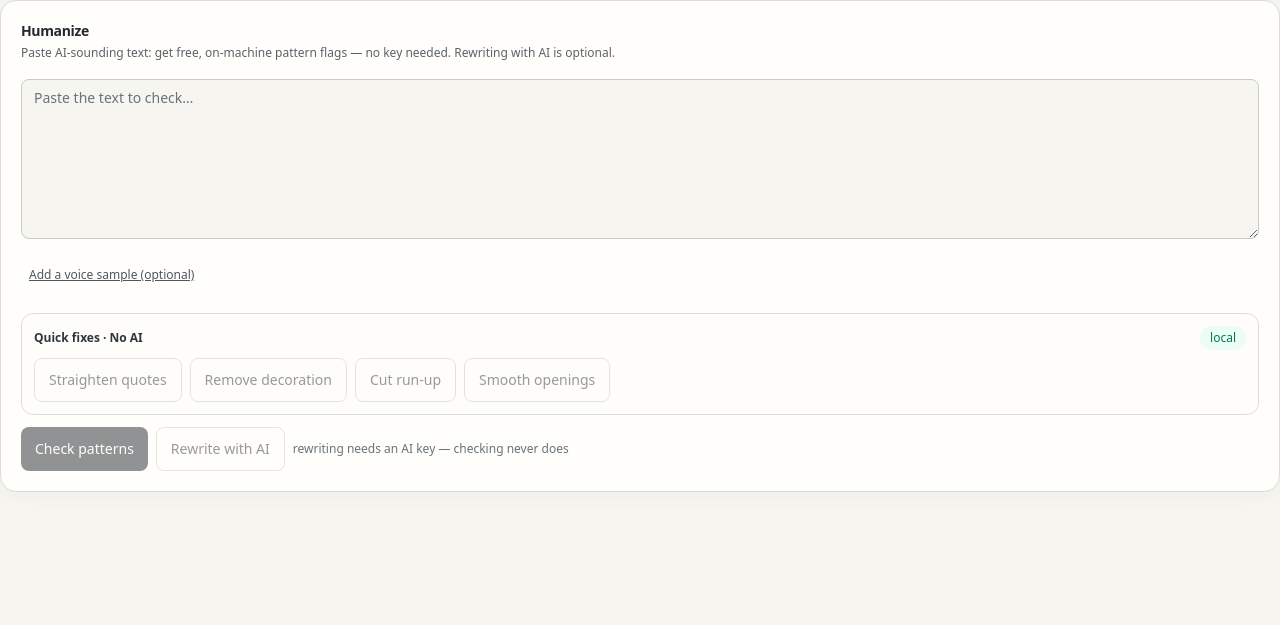
HumanizerPanel › keeps deterministic fix buttons available when AI is off
In the text box with placeholder "Paste the text to check…": [640, 158] box [21,78,1259,238], type "**Hello** ➜"
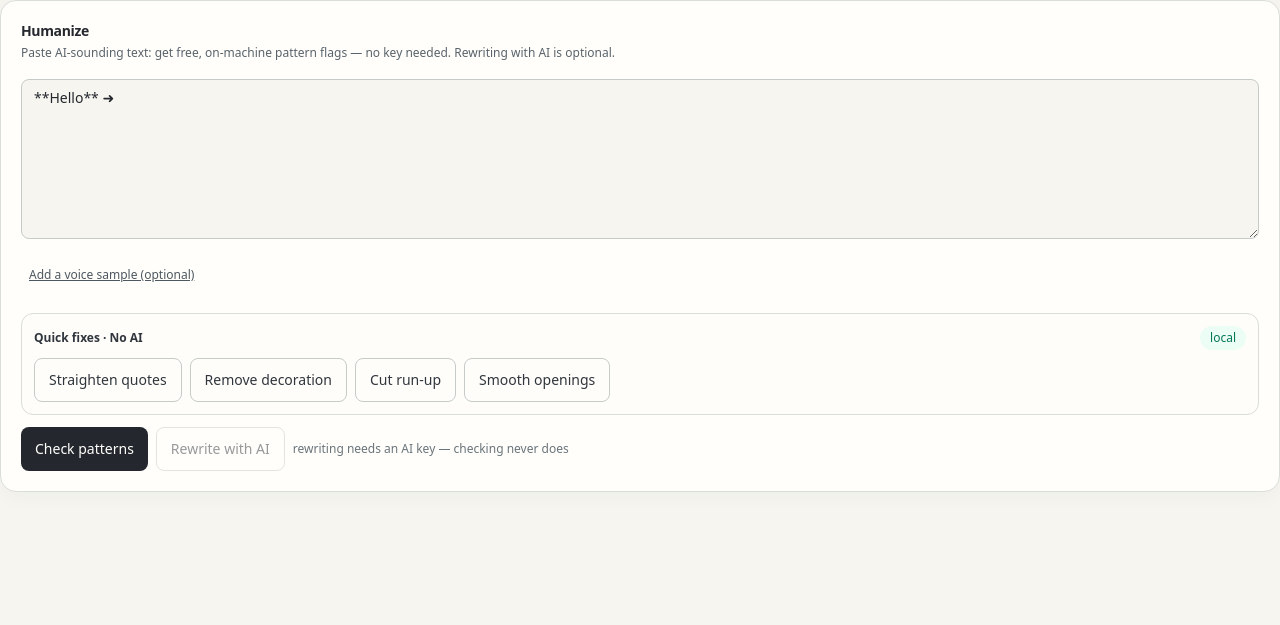
Expected: the button "Rewrite with AI" is disabled, [156,426,285,470]
Expected: the button "Remove decoration" is enabled
Click the button "Remove decoration": [268, 380] box [190,358,347,402]
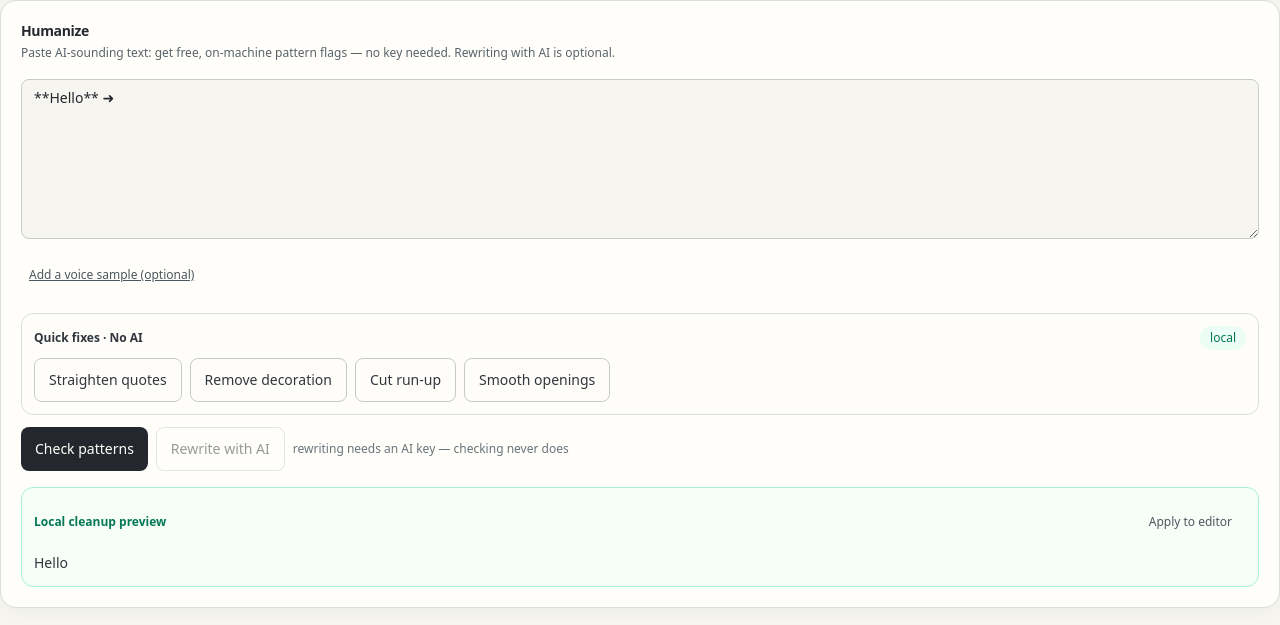
Expected: the text "Hello" is shown, [34,552,68,572]
